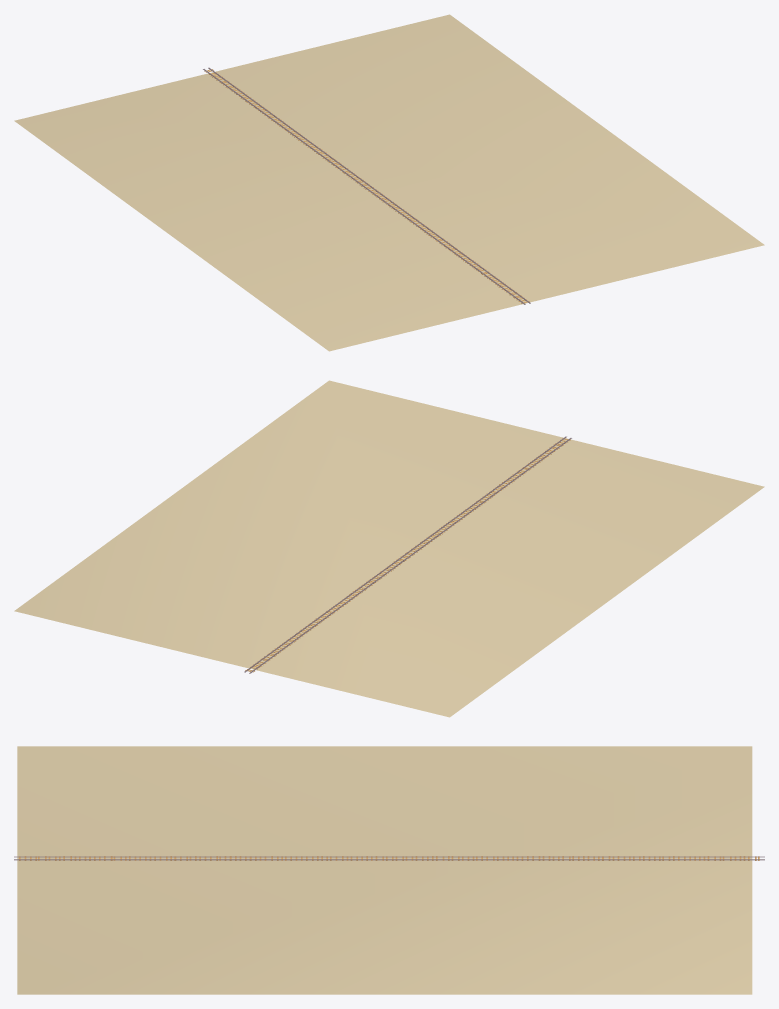
Rendered from Floor_Level (1).fbx.
3 views of the same model, one above another, from view 1: azimuth 30°, elevation 25°; view 2: azimuth 150°, elevation 25°; view 3: azimuth 270°, elevation 25° (orthographic). The views are drawn at different scales.
Visible parts, largest first — view 1: Plane, Plane.003, Plane.002, Plane.004; view 2: Plane, Plane.003, Plane.002, Plane.004; view 3: Plane, Plane.003, Plane.002, Plane.004.
Boxes of the visible parts, x1,y1,x2,y2 form: Plane: (14, 14, 764, 351); Plane.003: (204, 69, 529, 303); Plane.002: (203, 69, 525, 304); Plane.004: (208, 67, 530, 303); Plane: (14, 380, 764, 717); Plane.003: (245, 438, 570, 672); Plane.002: (249, 438, 571, 673); Plane.004: (244, 436, 566, 672); Plane: (17, 746, 752, 994); Plane.003: (19, 856, 759, 860); Plane.002: (14, 856, 764, 857); Plane.004: (14, 859, 764, 860).
Size of the model in its own units: 16010 by 12.92 by 20483.
